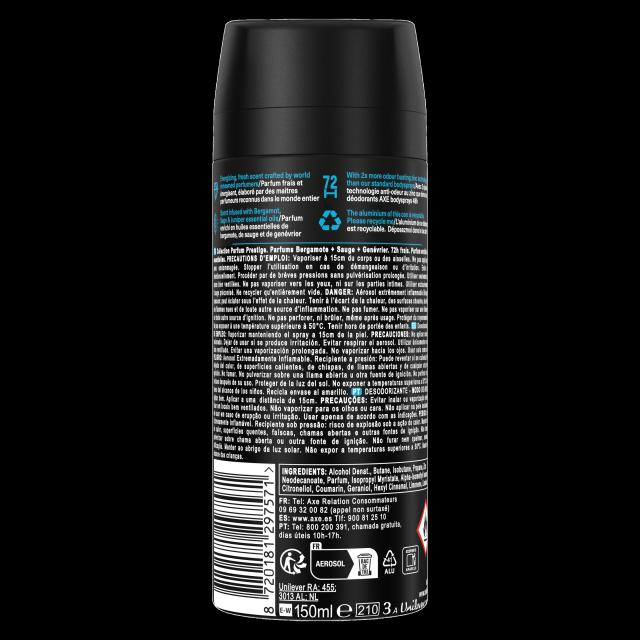GHS_Symbol_FLAME: (415, 500, 429, 558)
